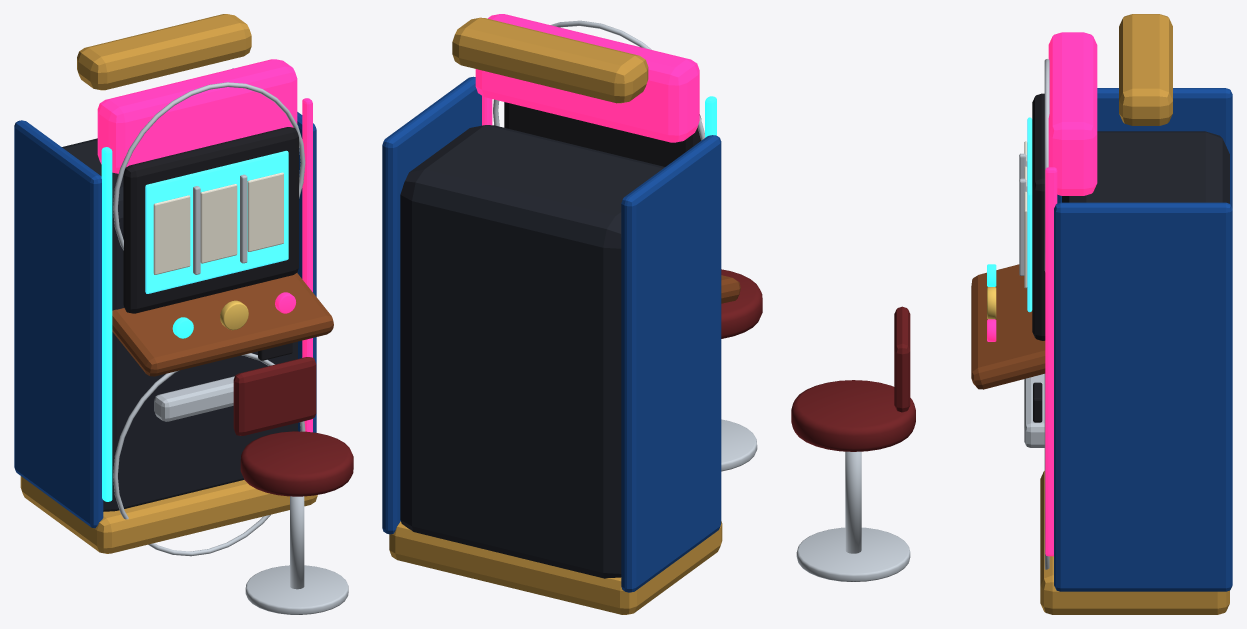
File: luxury_slot_machine.glb
3 renders of one model, left to right at view 1: azimuth 30°, elevation 25°; view 2: azimuth 150°, elevation 25°; view 3: azimuth 270°, elevation 25°, orthographic. The views are drawn at different scales.
Parts seen in each view (by area): view 1: Slot lacquer side left, Slot cabinet, Slot marquee, Control deck, Screen bezel, Slot pedestal, Slot crown, Screen glow, Leather seat.010, Stool back.010, Animated light strip, Stool base.010 (+12 smaller); view 2: Slot cabinet, Slot lacquer side left, Slot lacquer side right, Slot marquee, Slot crown, Slot pedestal, Screen bezel, Leather seat.010, Stool base.010, Chrome cabinet accent.001; view 3: Slot lacquer side right, Slot cabinet, Slot marquee, Leather seat.010, Control deck, Slot crown, Slot pedestal, Stool base.010, Slot lacquer side left, Animated light strip.001, Screen bezel, Stool back.010 (+5 smaller).
Part boxes in pixels (x1=…): Slot lacquer side left: x1=14, y1=120, x2=103, y2=528; Slot cabinet: x1=62, y1=138, x2=297, y2=511; Slot marquee: x1=97, y1=59, x2=297, y2=173; Control deck: x1=112, y1=273, x2=333, y2=376; Screen bezel: x1=123, y1=127, x2=298, y2=313; Slot pedestal: x1=20, y1=476, x2=317, y2=553; Slot crown: x1=77, y1=14, x2=251, y2=90; Screen glow: x1=145, y1=150, x2=288, y2=293; Leather seat.010: x1=240, y1=431, x2=353, y2=496; Stool back.010: x1=233, y1=357, x2=316, y2=435; Animated light strip: x1=101, y1=147, x2=112, y2=501; Stool base.010: x1=245, y1=565, x2=348, y2=614; Slot cabinet: x1=400, y1=125, x2=664, y2=578; Slot lacquer side left: x1=621, y1=135, x2=721, y2=592; Slot lacquer side right: x1=382, y1=76, x2=481, y2=534; Slot marquee: x1=475, y1=14, x2=699, y2=142; Slot crown: x1=452, y1=17, x2=648, y2=103; Slot pedestal: x1=389, y1=521, x2=722, y2=614; Screen bezel: x1=504, y1=102, x2=701, y2=166; Leather seat.010: x1=721, y1=269, x2=762, y2=338; Stool base.010: x1=721, y1=419, x2=757, y2=471; Chrome cabinet accent.001: x1=493, y1=20, x2=704, y2=140; Slot lacquer side right: x1=1054, y1=202, x2=1232, y2=591; Slot cabinet: x1=1062, y1=131, x2=1229, y2=203; Slot marquee: x1=1048, y1=32, x2=1097, y2=195; Leather seat.010: x1=791, y1=380, x2=915, y2=451; Control deck: x1=971, y1=264, x2=1045, y2=389; Slot crown: x1=1119, y1=14, x2=1172, y2=125; Slot pedestal: x1=1040, y1=471, x2=1229, y2=614; Stool base.010: x1=796, y1=527, x2=910, y2=581; Slot lacquer side left: x1=1057, y1=88, x2=1232, y2=208; Animated light strip.001: x1=1045, y1=167, x2=1057, y2=556; Screen bezel: x1=1032, y1=93, x2=1045, y2=340; Stool back.010: x1=894, y1=306, x2=910, y2=412.
Size of the model in its own units: 1.06 by 2.17 by 1.63.
